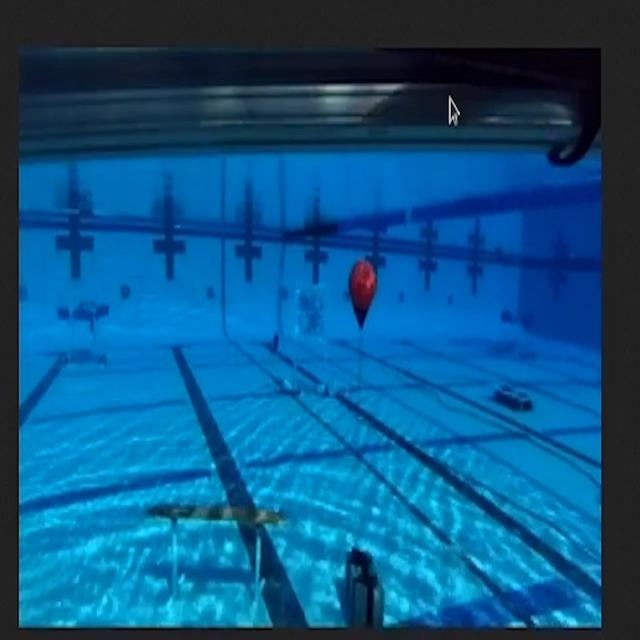Buoy: (335, 236, 392, 354)
Path: (136, 471, 289, 589)
